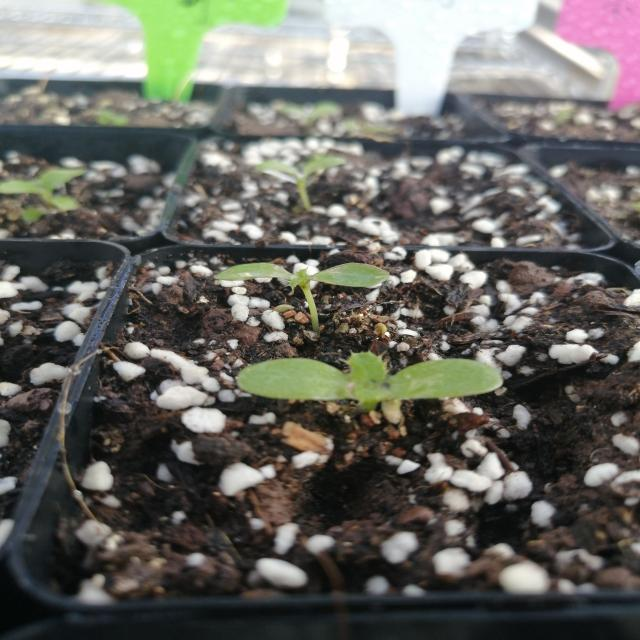field_thistle: (206, 323, 508, 440), (188, 250, 404, 306)
